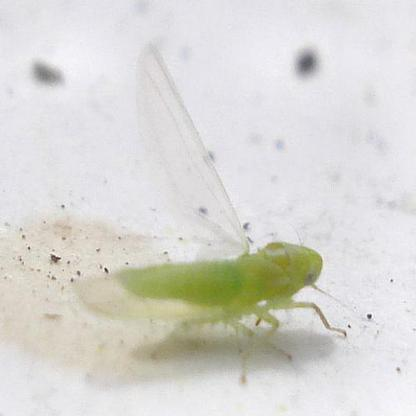green-leafhopper: (77, 238, 327, 354)
